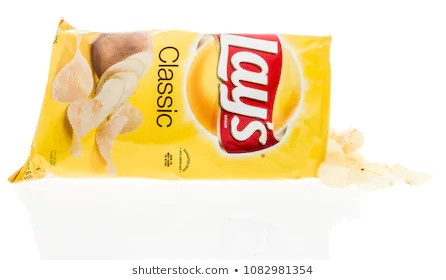lays-med: (7, 32, 333, 185)
